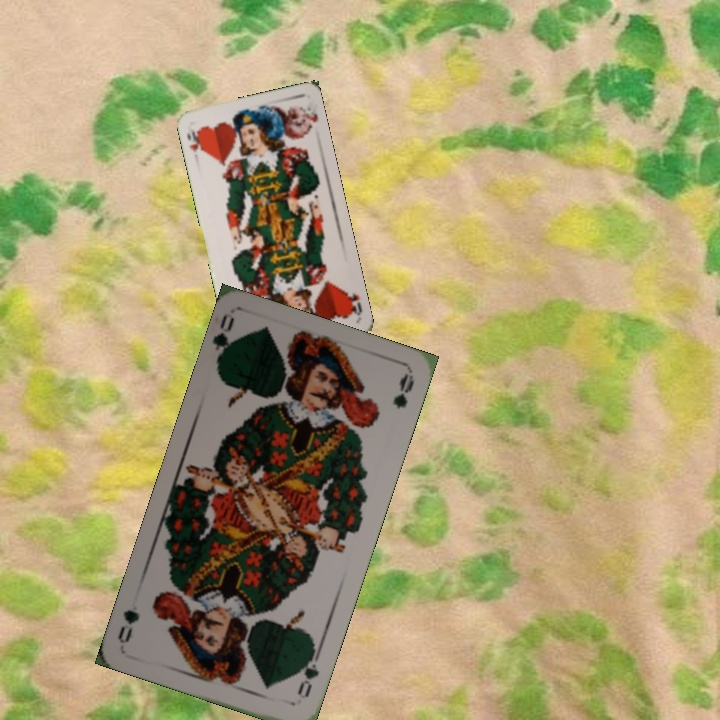GO: (209, 310, 240, 371), (293, 647, 323, 700)
HO: (183, 124, 206, 156), (342, 288, 365, 318)
